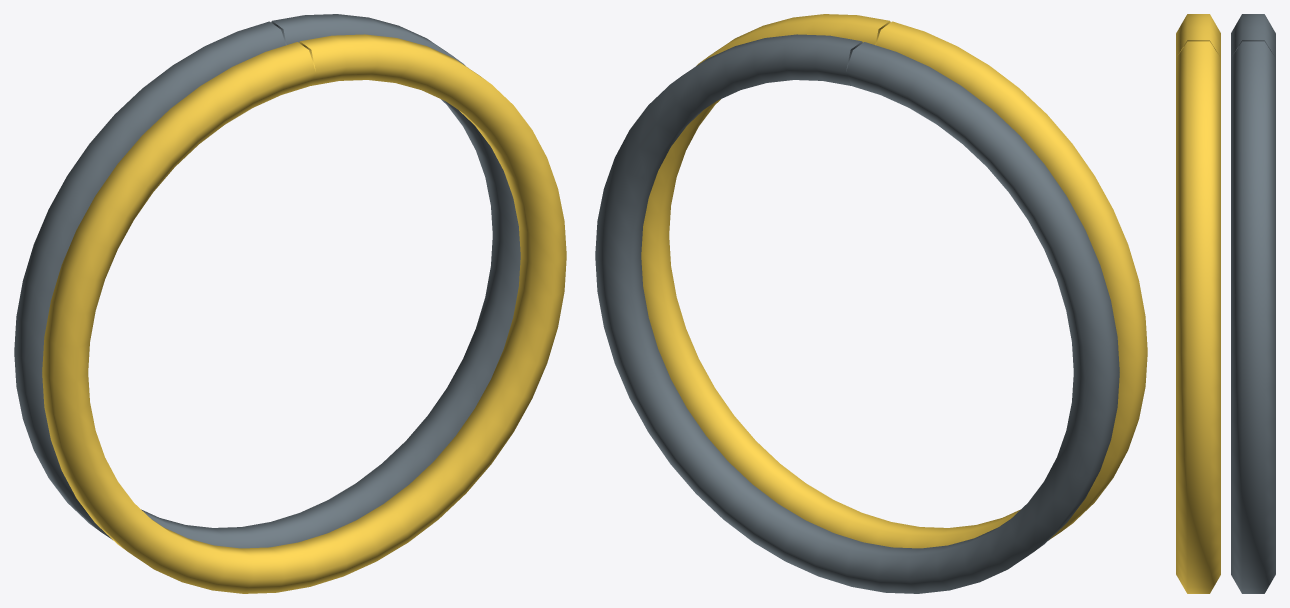
Rendered from progress-100.glb.
3 views of the same model, side by side, from view 1: azimuth 30°, elevation 25°; view 2: azimuth 150°, elevation 25°; view 3: azimuth 270°, elevation 25° (orthographic). The views are drawn at different scales.
Parts seen in each view (by area): view 1: progress, background; view 2: background, progress; view 3: background, progress.
Boxes of the visible parts, x1,y1,x2,y2 form: progress: [42, 34, 566, 593]; background: [14, 14, 520, 548]; background: [595, 34, 1119, 593]; progress: [641, 14, 1147, 548]; background: [1231, 14, 1275, 593]; progress: [1176, 14, 1220, 593].
Size of the model in its own units: 0.9006 by 0.9006 by 0.155.
